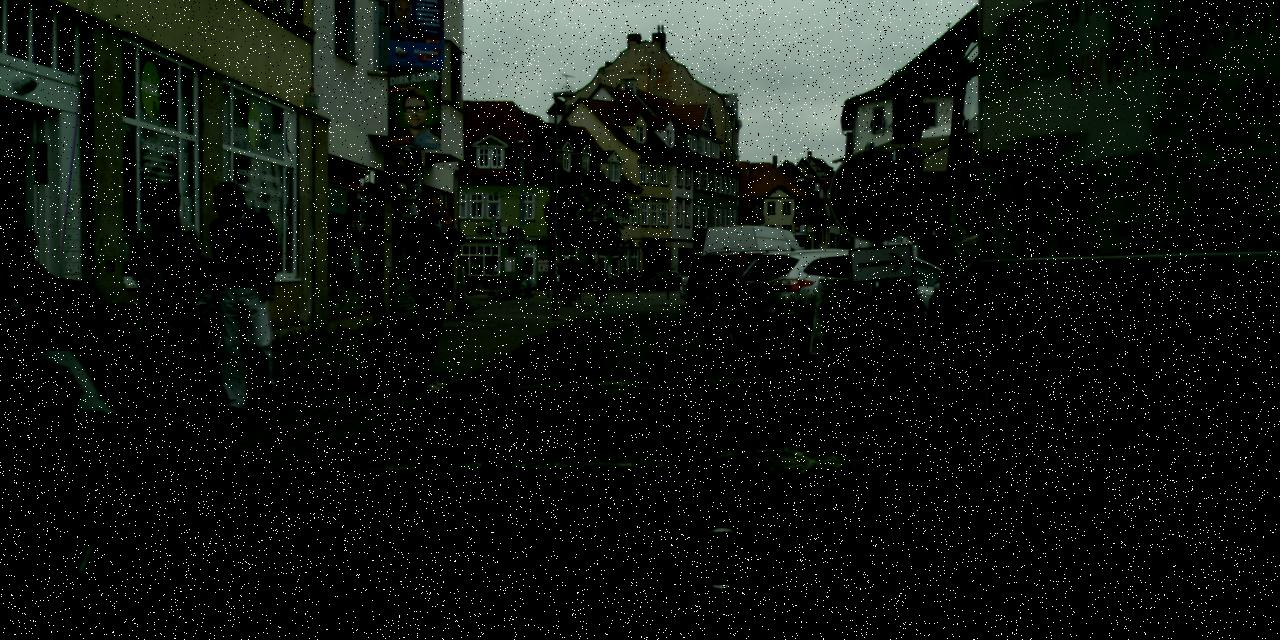ped: (195, 181, 289, 411), (122, 184, 214, 410), (386, 189, 468, 390), (556, 254, 577, 306), (566, 256, 584, 300), (590, 262, 608, 306), (551, 259, 567, 299), (619, 264, 629, 289), (524, 272, 533, 297), (629, 264, 638, 288)
